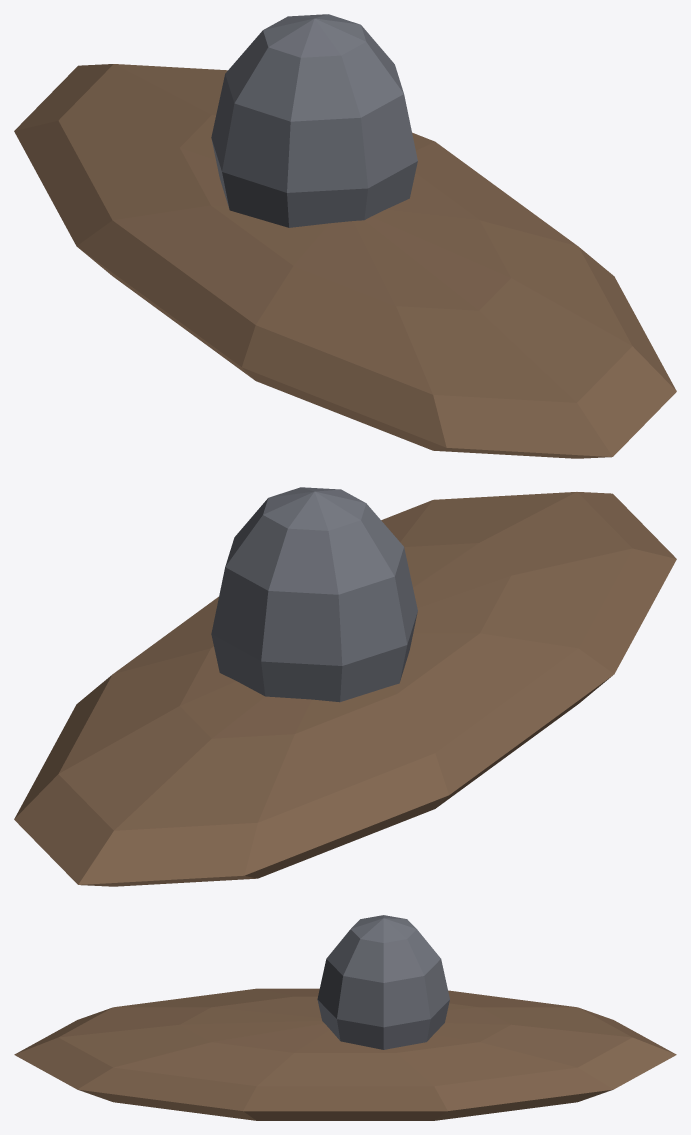
File: lago-web.glb
3 renders of one model, top to bottom at view 1: azimuth 30°, elevation 25°; view 2: azimuth 150°, elevation 25°; view 3: azimuth 270°, elevation 25°, orthographic. The views are drawn at different scales.
Parts seen in each view (by area): view 1: barco, barco_tripulante; view 2: barco, barco_tripulante; view 3: barco, barco_tripulante.
Part boxes in pixels (x1,y1,x2,y2): barco: (14, 64, 676, 458); barco_tripulante: (211, 14, 417, 227); barco: (14, 492, 676, 886); barco_tripulante: (211, 487, 417, 702); barco: (14, 988, 676, 1120); barco_tripulante: (317, 915, 449, 1049).
Size of what is drawn, in the model's own units: 1.05 by 0.741 by 2.6.
